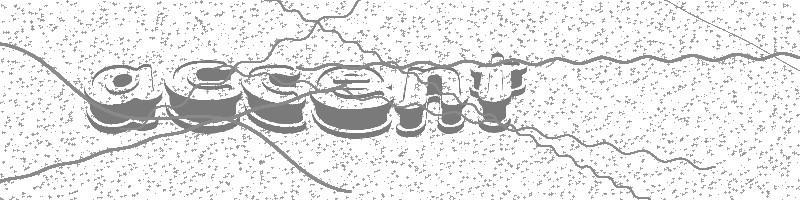a: (83, 62, 164, 135)
c: (164, 58, 244, 135), (243, 63, 310, 134)
e: (310, 63, 393, 141)
n: (394, 66, 466, 138)
t: (469, 51, 529, 134)
